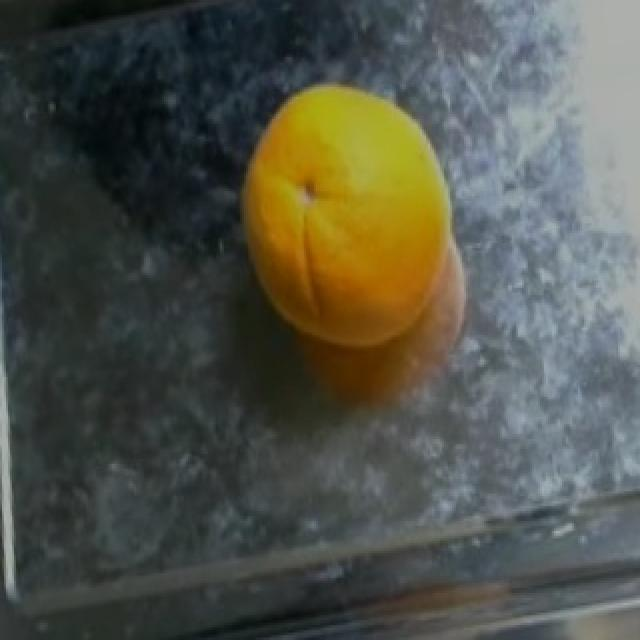Fruit: (222, 57, 480, 424)
